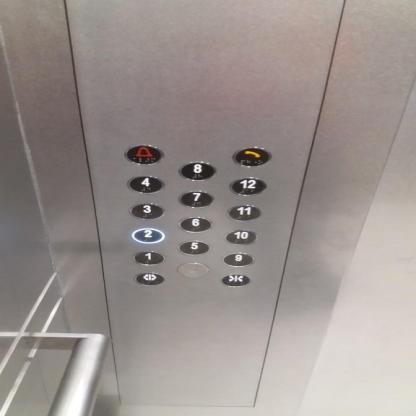1: (129, 249, 166, 267)
10: (224, 226, 260, 247)
11: (225, 200, 264, 223)
12: (230, 174, 268, 197)
2: (130, 226, 168, 244)
3: (126, 201, 166, 220)
4: (128, 173, 166, 196)
5: (175, 239, 211, 257)
6: (176, 214, 215, 235)
7: (176, 189, 215, 209)
8: (177, 161, 217, 181)
9: (218, 250, 256, 268)
alarm: (123, 142, 165, 166)
call: (230, 143, 274, 169)
close: (217, 272, 252, 289)
empty: (173, 262, 211, 278)
open: (130, 270, 165, 288)
